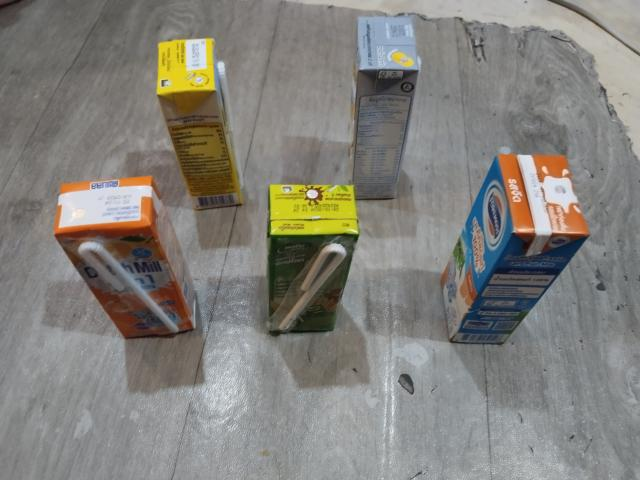drink_box: (429, 145, 599, 355), (39, 169, 209, 352), (160, 21, 242, 209), (263, 179, 355, 340), (347, 14, 419, 202)
